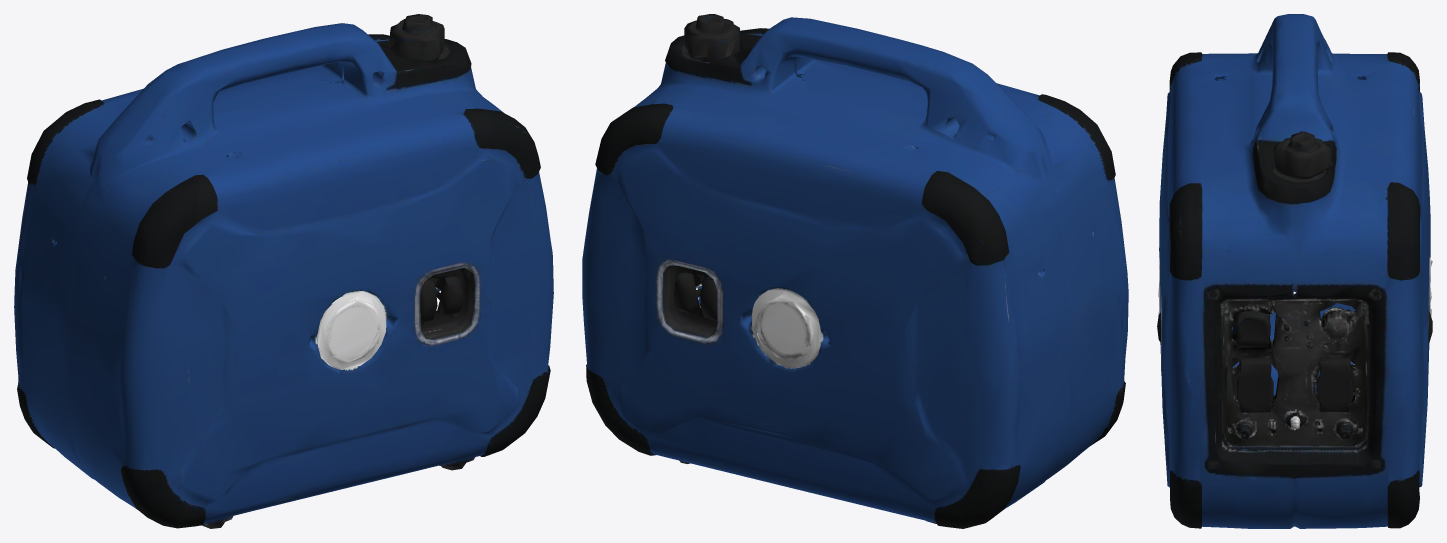
File: generator.glb
3 renders of one model, left to right at view 1: azimuth 30°, elevation 25°; view 2: azimuth 150°, elevation 25°; view 3: azimuth 270°, elevation 25°, orthographic. The views are drawn at different scales.
Parts seen in each view (by area): view 1: geom0; view 2: geom0; view 3: geom0.
Part boxes in pixels (left/top/right/bottom): geom0: left=14, top=14, right=553, bottom=528; geom0: left=582, top=14, right=1128, bottom=528; geom0: left=1157, top=14, right=1432, bottom=528.
Size of the model in its own units: 0.55 by 0.5108 by 0.3156.
Materials: 1 (1 with a texture image).
